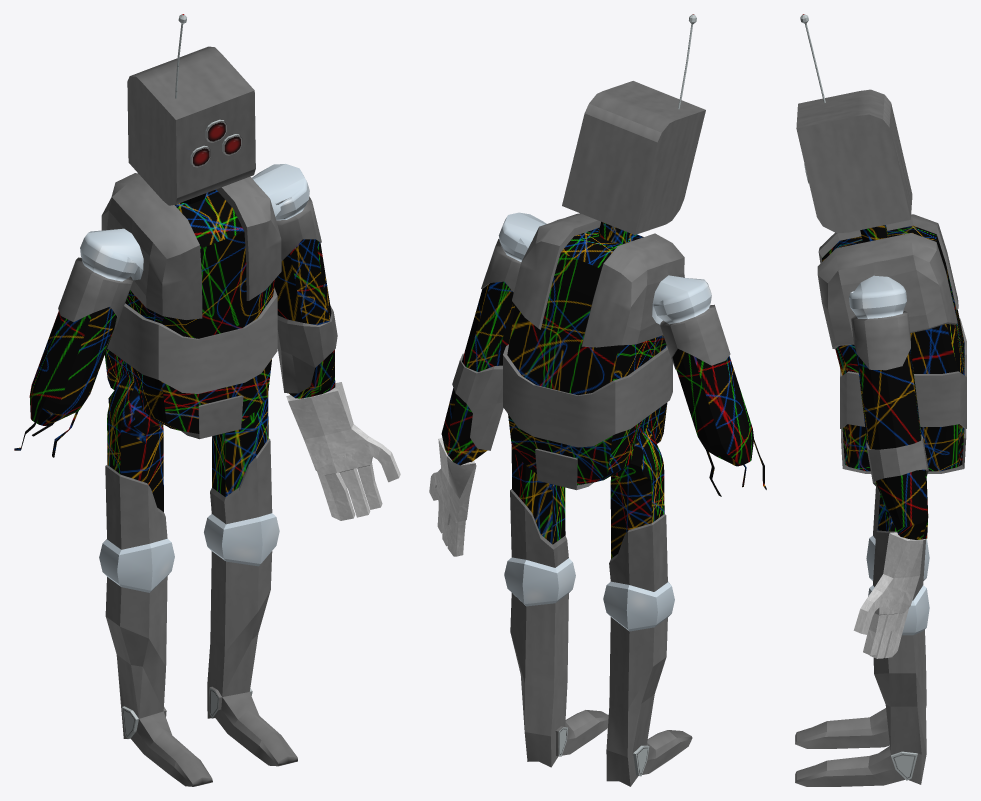
Rendered from RobotIdle5.obj.
The picture shows the model from 3 angles, left to right: view 1: azimuth 30°, elevation 25°; view 2: azimuth 150°, elevation 25°; view 3: azimuth 270°, elevation 25°; orthographic projection. The views are drawn at different scales.
Parts seen in each view (by area): view 1: Robot; view 2: Robot; view 3: Robot.
Boxes of the visible parts, <box> form: Robot: <box>14,14,400,786</box>; Robot: <box>429,14,766,786</box>; Robot: <box>795,14,966,786</box>.
Bounding box in the file's own units: 7.81 × 15.54 × 3.36.
